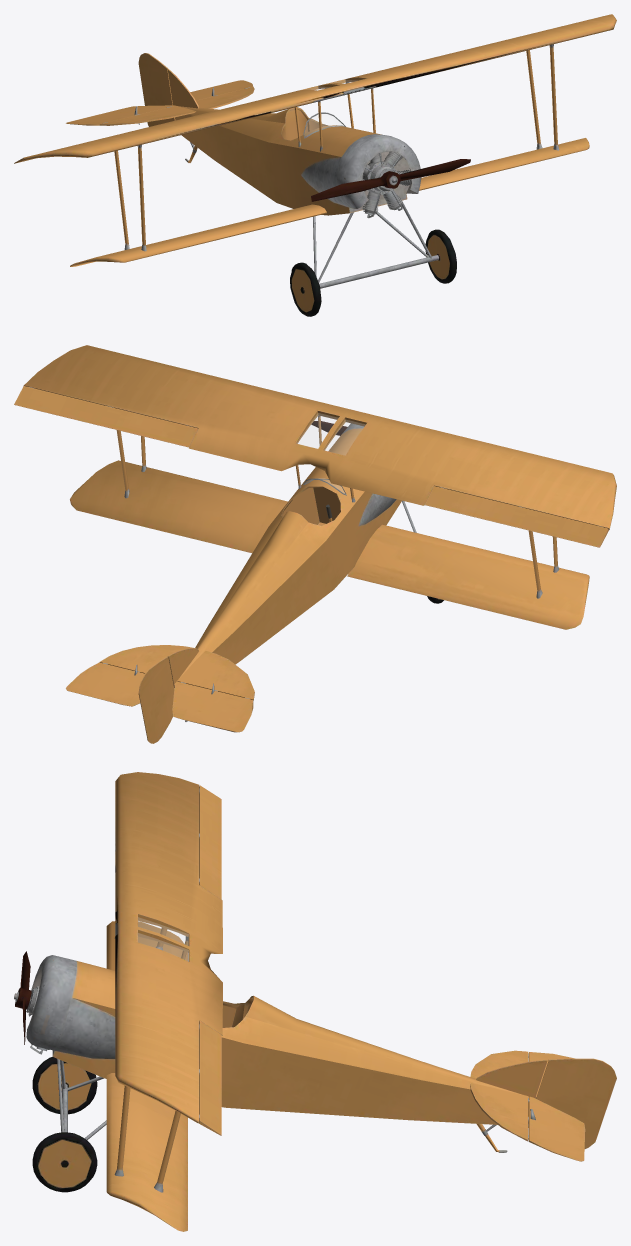
File: airplane01.glb
3 renders of one model, top to bottom at view 1: azimuth 30°, elevation 25°; view 2: azimuth 150°, elevation 25°; view 3: azimuth 270°, elevation 25°, orthographic. The views are drawn at different scales.
Parts seen in each view (by area): view 1: engine_base_0, glass_glass_0; view 2: engine_base_0, glass_glass_0; view 3: engine_base_0, glass_glass_0.
Boxes of the visible parts, box(x1,y1,x2,y2) form: engine_base_0: box(14, 14, 616, 316); glass_glass_0: box(304, 80, 356, 135); engine_base_0: box(14, 345, 616, 743); glass_glass_0: box(297, 413, 365, 492); engine_base_0: box(14, 772, 616, 1231); glass_glass_0: box(138, 917, 188, 961).
Bounding box in the file's own units: 8.64 × 2.72 × 6.54.
2 materials, 1 textured.
